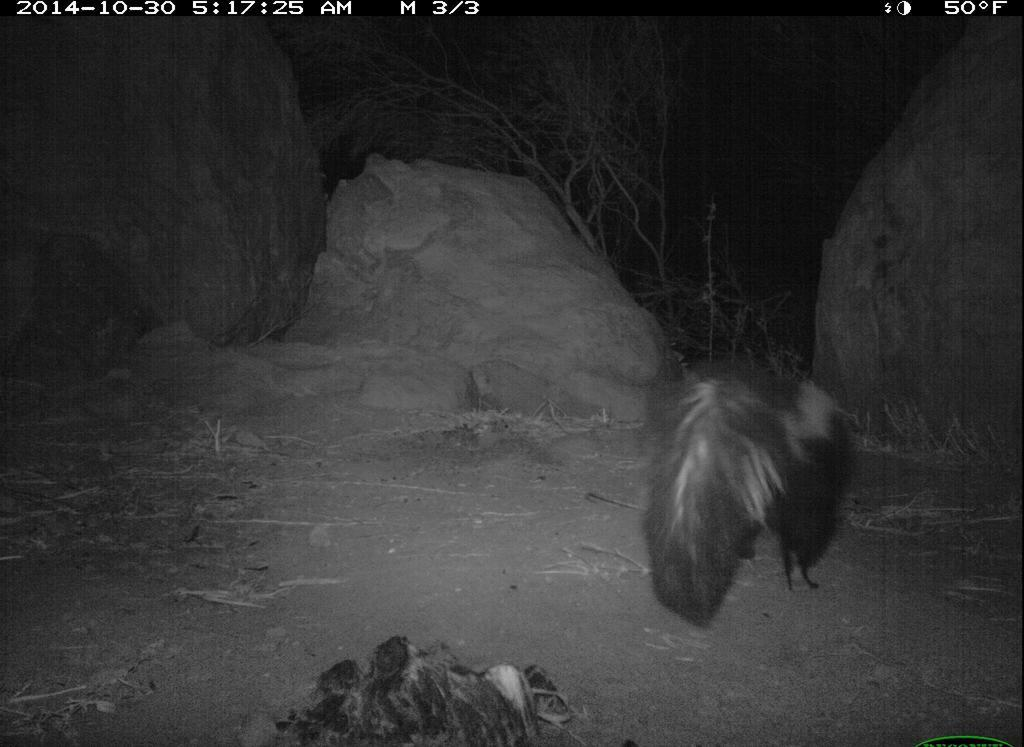skunk: (620, 345, 866, 634)
